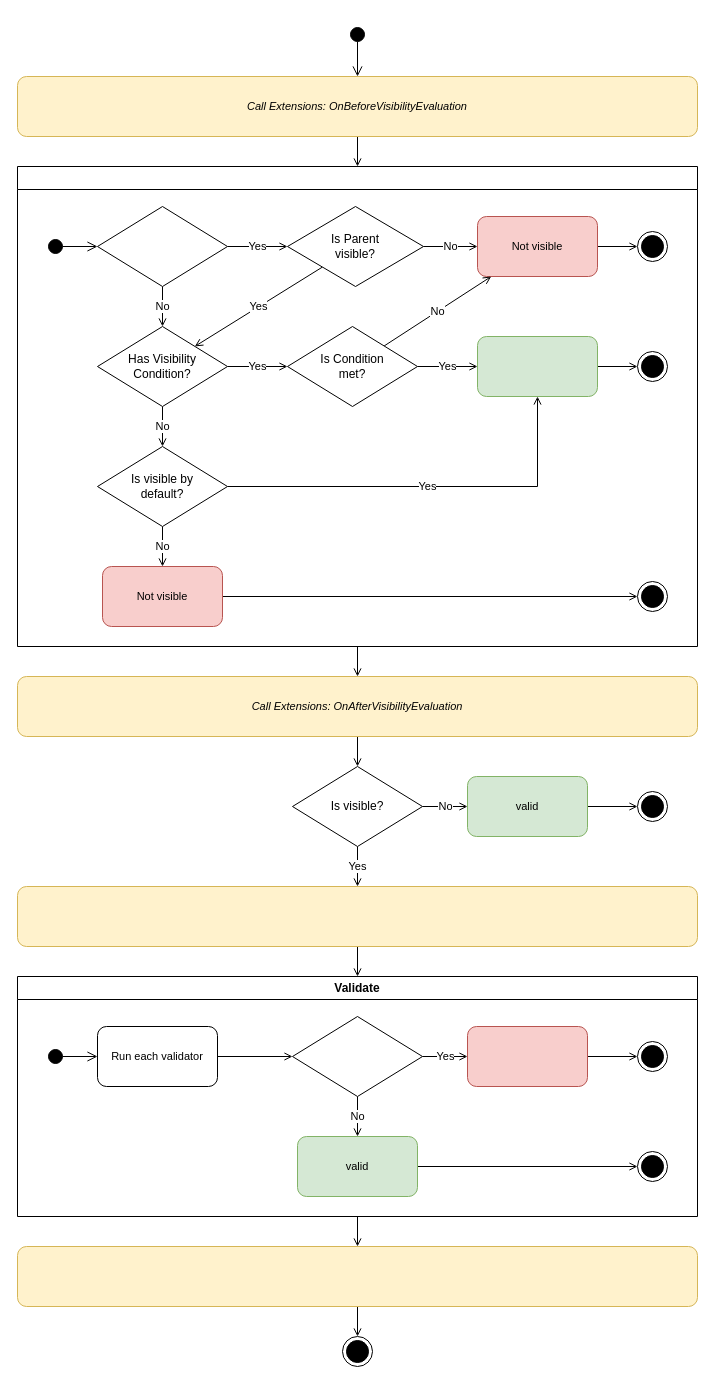
The diagram is 715 pixels wide and 1384 high, and some of its shapes have lost their labels. The shapes that lost their labels are listed below. From the top down, each one's box as (x1, y1, x2, y2) in pixels, then its label:
(96, 206, 228, 286): Has Parent?
(476, 336, 598, 396): Visible
(16, 166, 698, 646): Evaluate visibility
(16, 886, 698, 946): Call Extensions : OnBeforeValidation
(292, 1016, 422, 1096): Has validation errors?
(466, 1026, 588, 1086): Not valid
(16, 1246, 698, 1306): Call Extensions : OnAfterValidation
